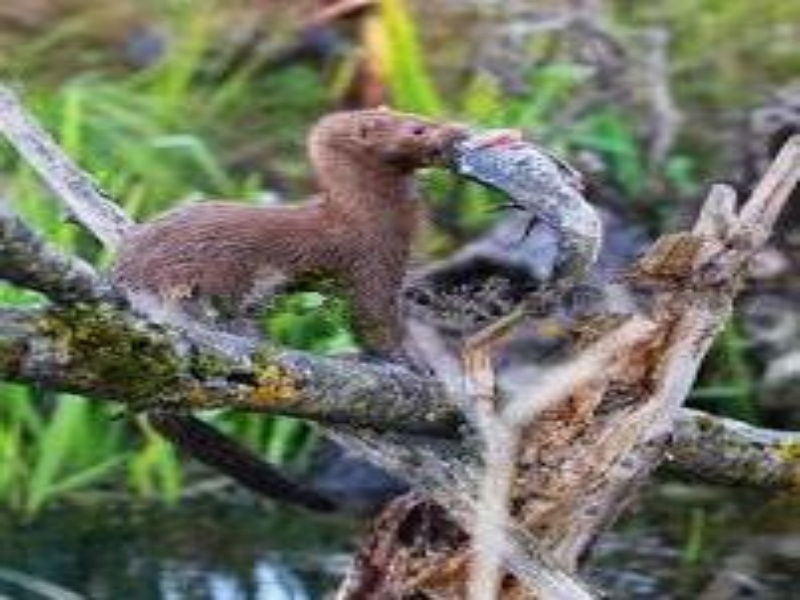minkish: (102, 101, 471, 358)
